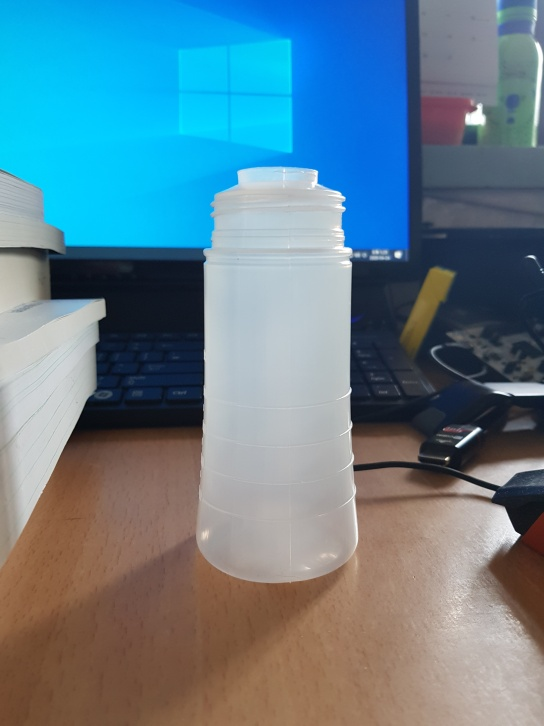Plastic: (193, 165, 364, 586)
